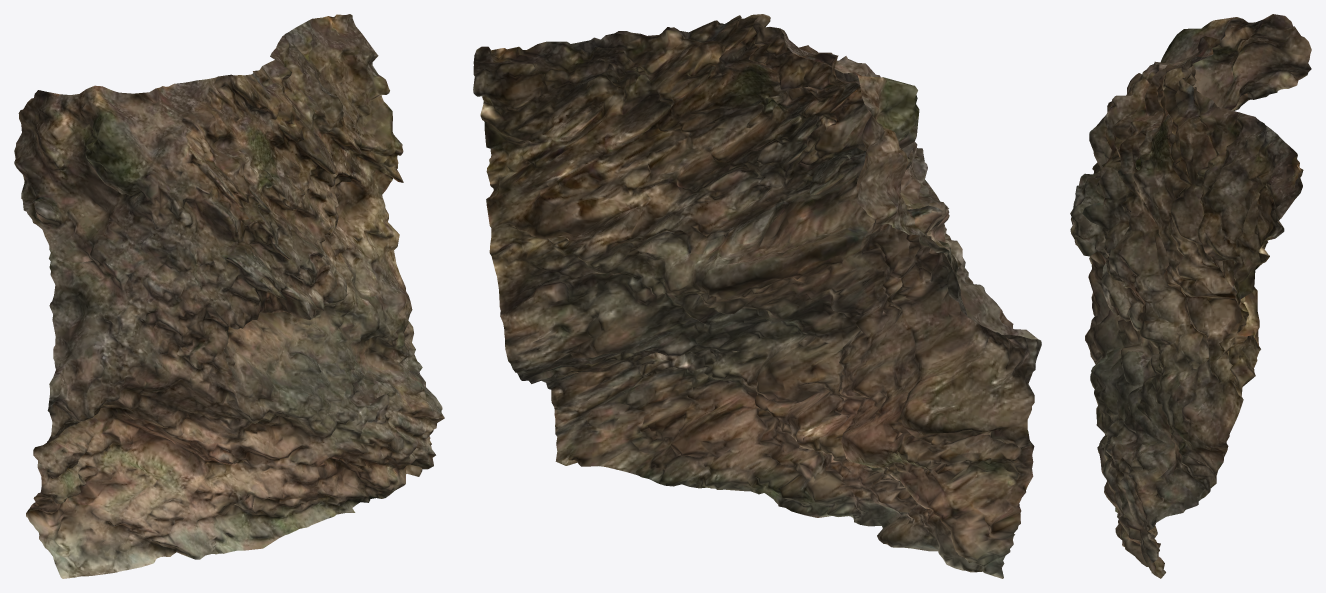
The model's file is mountainside.glb.
The picture shows the model from 3 angles, left to right: view 1: azimuth 30°, elevation 25°; view 2: azimuth 150°, elevation 25°; view 3: azimuth 270°, elevation 25°; orthographic projection. The views are drawn at different scales.
Visible parts, largest first — view 1: mountainside; view 2: mountainside; view 3: mountainside.
Part boxes in pixels (x1,y1,x2,y2): mountainside: [14, 14, 444, 578]; mountainside: [473, 14, 1041, 578]; mountainside: [1070, 14, 1311, 578].
Bounding box in the file's own units: 10.2 × 10.52 × 5.25.
Materials: 1 (1 with a texture image).
